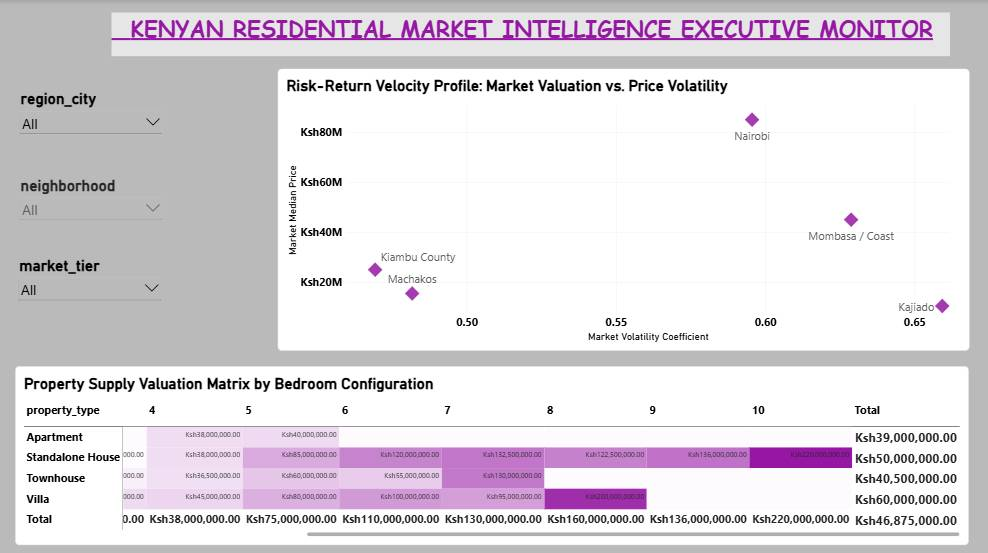

The dashboard page shown, as its layout file describes it:
{"tool":"powerbi","page":{"name":"Page 3","canvas":[1920,1080],"ordinal":2},"visuals":[{"type":"pivotTable","title":"Property Supply Valuation Matrix by Bedroom Configuration","fields":{"Columns":["kenya_real_estate view_powerbi_analytical_core.bedrooms"],"Rows":["kenya_real_estate view_powerbi_analytical_core.property_type"],"Values":["Median(kenya_real_estate view_powerbi_analytical_core.price_kes)"]},"box":[32.5,710,1850,347.5],"z":0},{"type":"scatterChart","title":"Risk-Return Velocity Profile: Market Valuation vs. Price Volatility","fields":{"Category":["kenya_real_estate view_powerbi_analytical_core.region_city","kenya_real_estate view_powerbi_analytical_core.neighborhood"],"X":["kenya_real_estate view_powerbi_analytical_core.Market Volatility Coefficient"],"Y":["kenya_real_estate view_powerbi_analytical_core.Market Median Price"]},"box":[540,132.5,1342.5,547.5],"z":1000},{"type":"slicer","fields":{"Values":["kenya_real_estate view_powerbi_analytical_core.market_tier"]},"box":[32.5,497.5,288.7,87.5],"z":2000},{"type":"slicer","fields":{"Values":["kenya_real_estate view_powerbi_analytical_core.neighborhood"]},"box":[35,342.5,288.7,87.5],"z":3000},{"type":"slicer","fields":{"Values":["kenya_real_estate view_powerbi_analytical_core.region_city"]},"box":[35,175,288.7,87.5],"z":4000},{"type":"textbox","box":[217.5,25,1627.5,85],"z":5000}]}

Visuals, with their boxes in screenshot pixels (x1, y1, x2, y2), scaled from the page's 1920x1080 canvas onto the 988x553 screenshot:
"Property Supply Valuation Matrix by Bedroom Configuration" pivotTable: {"left": 17, "top": 364, "right": 969, "bottom": 541}
"Risk-Return Velocity Profile: Market Valuation vs. Price Volatility" scatterChart: {"left": 278, "top": 68, "right": 969, "bottom": 348}
slicer - kenya_real_estate view_powerbi_analytical_core.market_tier: {"left": 17, "top": 255, "right": 165, "bottom": 300}
slicer - kenya_real_estate view_powerbi_analytical_core.neighborhood: {"left": 18, "top": 175, "right": 167, "bottom": 220}
slicer - kenya_real_estate view_powerbi_analytical_core.region_city: {"left": 18, "top": 90, "right": 167, "bottom": 134}
textbox: {"left": 112, "top": 13, "right": 949, "bottom": 56}
